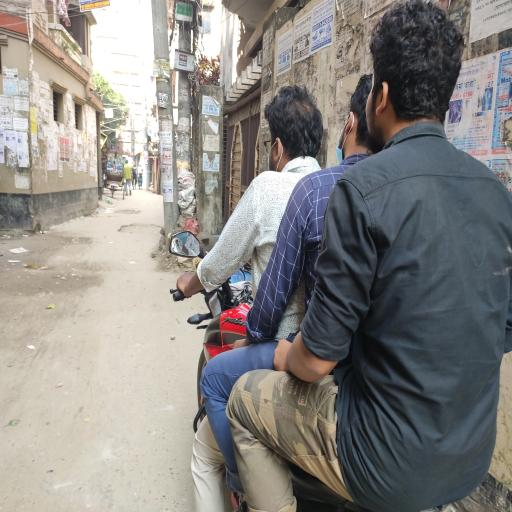helmet: (168, 228, 202, 259)
overloading: (171, 3, 509, 509)
